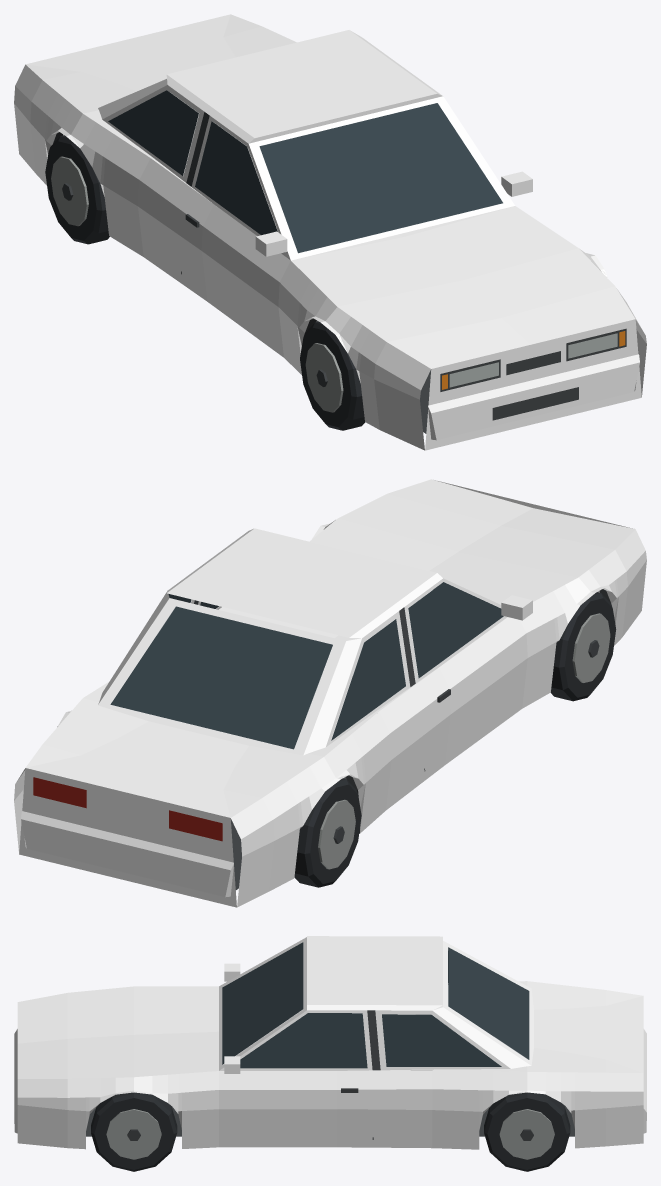
The model's file is keldorf_wachtel_s.glb.
3 views of the same model, one above another, from view 1: azimuth 30°, elevation 25°; view 2: azimuth 150°, elevation 25°; view 3: azimuth 270°, elevation 25° (orthographic). The views are drawn at different scales.
Visible parts, largest first — view 1: keldorf_wachtel_s; view 2: keldorf_wachtel_s; view 3: keldorf_wachtel_s.
Boxes of the visible parts, x1,y1,x2,y2 form: keldorf_wachtel_s: (14,14,646,450); keldorf_wachtel_s: (14,479,646,907); keldorf_wachtel_s: (14,936,646,1171).
Size of the model in its own units: 1.82 by 1.25 by 4.7.
Materials: 8 (1 with a texture image).
